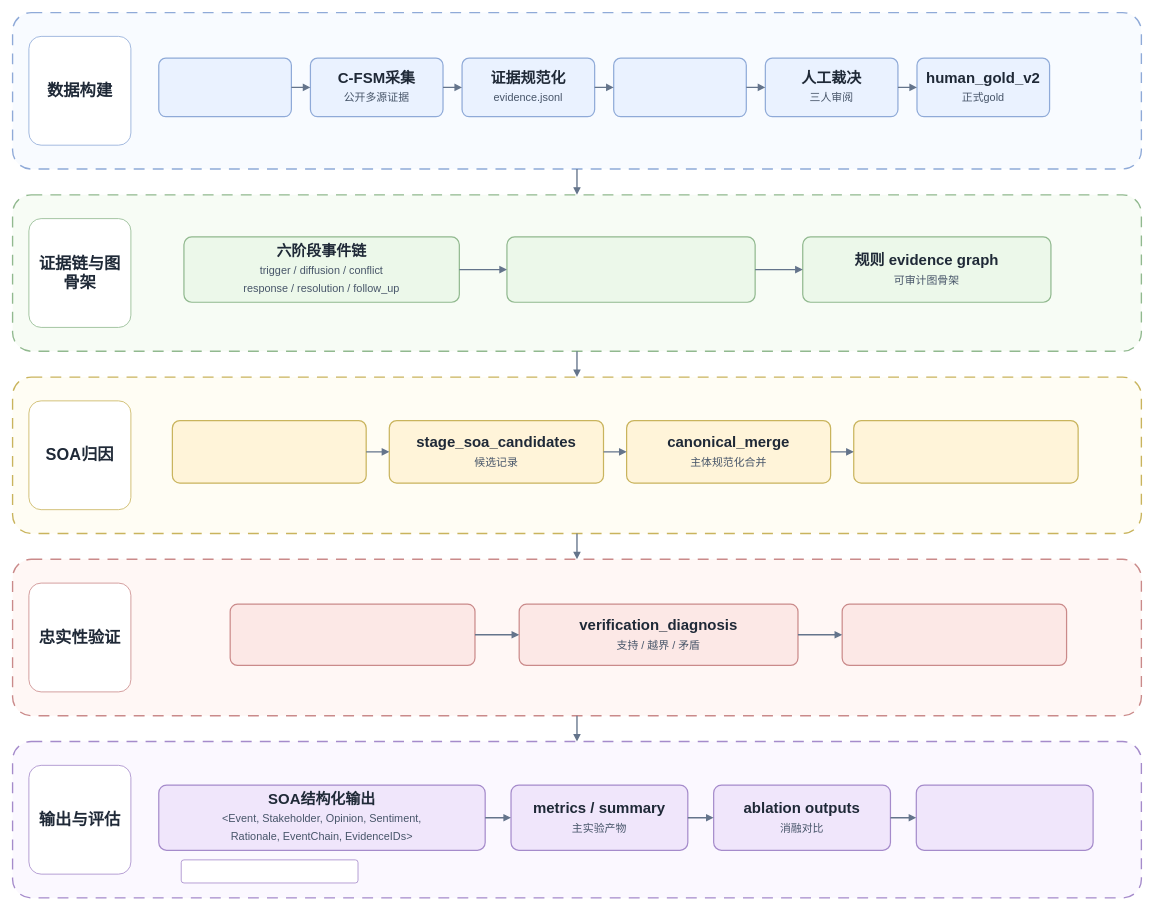
The diagram is 1153 pixels wide and 910 high, and some of its shapes have lost their labels. The shapes that lost their labels are listed below. From the top down, each one's centre as x and y in pixels, then its label:
At (225,87): "事件注册 events.jsonl".
At (680,87): "LLM silver 预标注".
At (630,269): "coverage_optimized 阶段 / 主体 / 来源覆盖".
At (268,451): "stage_extract 阶段级候选抽取".
At (965,451): "candidate_soa_tuples 最终候选tuple".
At (352,634): "decomposed verifier 字段级检查".
At (954,634): "质量门控 过滤弱支持tuple".
At (1004,817): "可审计 / 可复现 证据ID回溯".
At (269,871): "EvidenceIDs 支撑".
